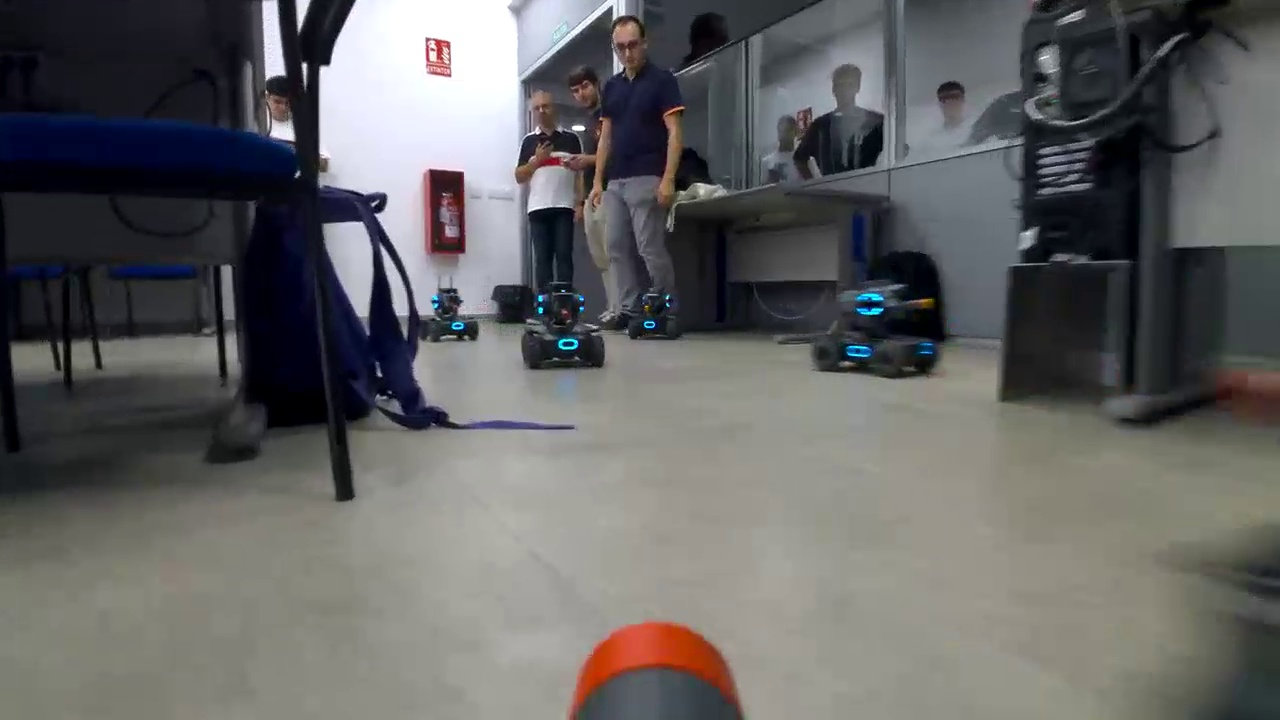robot: (812, 276, 948, 386), (517, 280, 609, 371), (415, 284, 482, 343), (627, 287, 682, 344)
